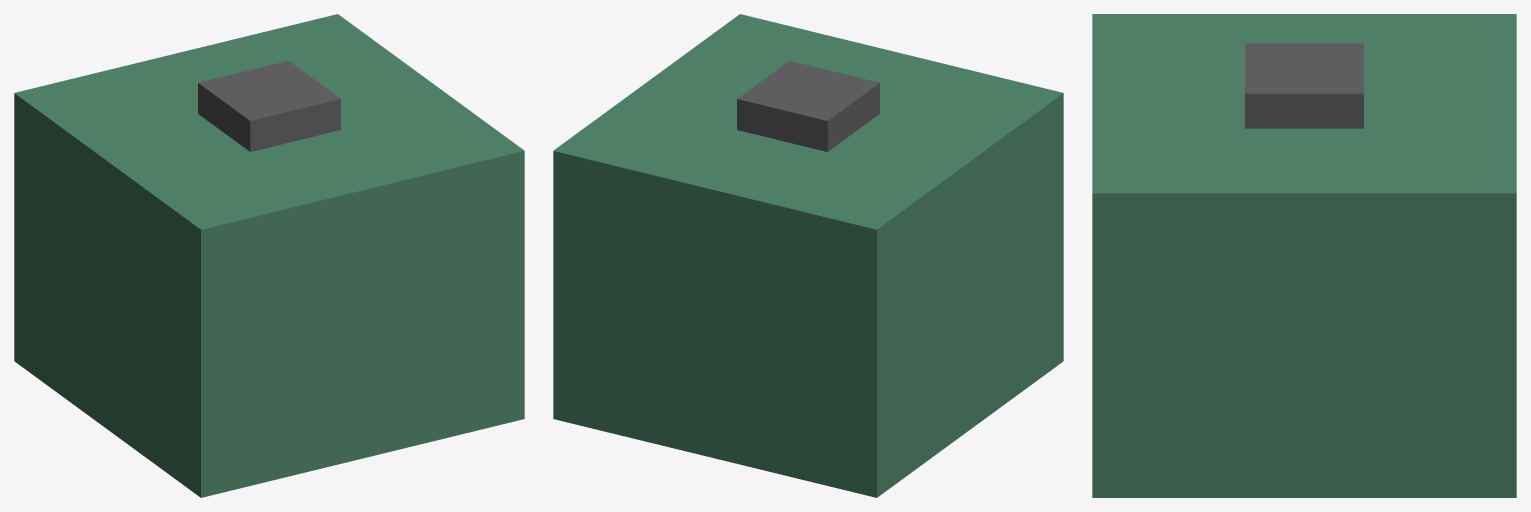
The model's file is buzzer-passive.glb.
3 renders of one model, left to right at view 1: azimuth 30°, elevation 25°; view 2: azimuth 150°, elevation 25°; view 3: azimuth 270°, elevation 25°, orthographic. The views are drawn at different scales.
Parts seen in each view (by area): view 1: buzzer-passive-pcb, buzzer-passive-ic; view 2: buzzer-passive-pcb, buzzer-passive-ic; view 3: buzzer-passive-pcb, buzzer-passive-ic.
Boxes of the visible parts, x1,y1,x2,y2 form: buzzer-passive-pcb: (14, 14, 524, 497); buzzer-passive-ic: (198, 60, 340, 151); buzzer-passive-pcb: (553, 14, 1063, 497); buzzer-passive-ic: (737, 60, 879, 151); buzzer-passive-pcb: (1092, 14, 1516, 497); buzzer-passive-ic: (1245, 43, 1363, 128).
Bounding box in the file's own units: 0.012 × 0.0106 × 0.012.
